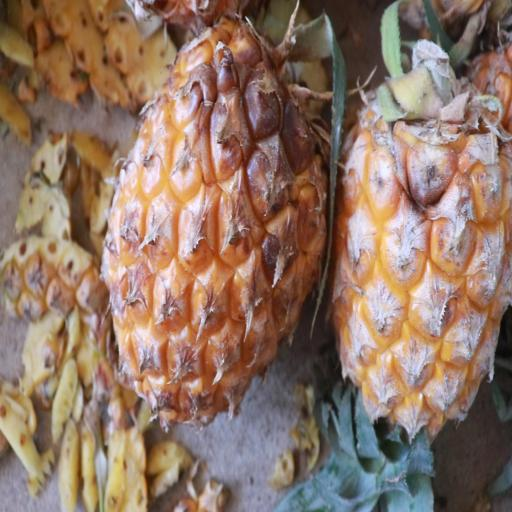Pineapple - v8 v1: (91, 4, 326, 429), (328, 25, 512, 487)
